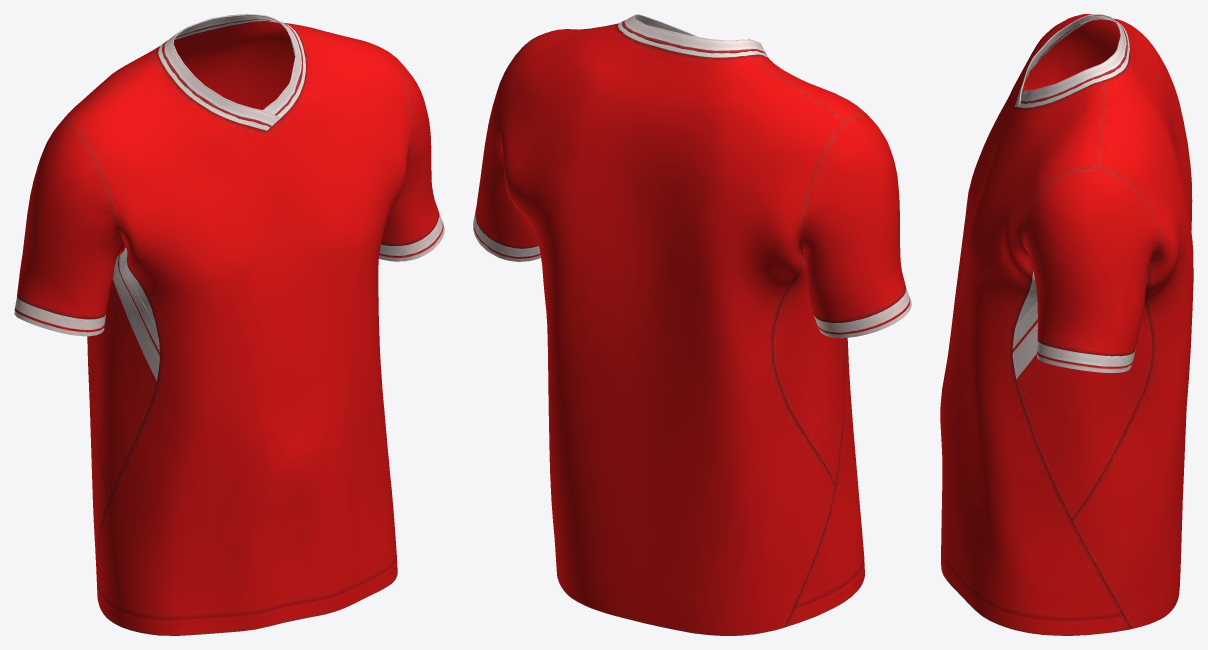
Rendered from camiseta-futbol-roja-lite.glb.
3 views of the same model, side by side, from view 1: azimuth 30°, elevation 25°; view 2: azimuth 150°, elevation 25°; view 3: azimuth 270°, elevation 25° (orthographic). The views are drawn at different scales.
Parts seen in each view (by area): view 1: Object_2, Object_5; view 2: Object_2, Object_5; view 3: Object_2, Object_5.
Boxes of the visible parts, bbox=[...] form: Object_2: bbox=[14, 19, 443, 635]; Object_5: bbox=[14, 14, 444, 380]; Object_2: bbox=[473, 20, 910, 635]; Object_5: bbox=[473, 14, 911, 338]; Object_2: bbox=[940, 14, 1193, 635]; Object_5: bbox=[1012, 14, 1135, 379].
Bounding box in the file's own units: 0.5505 × 0.6997 × 0.2952.
Materials: 2 (2 with a texture image).
